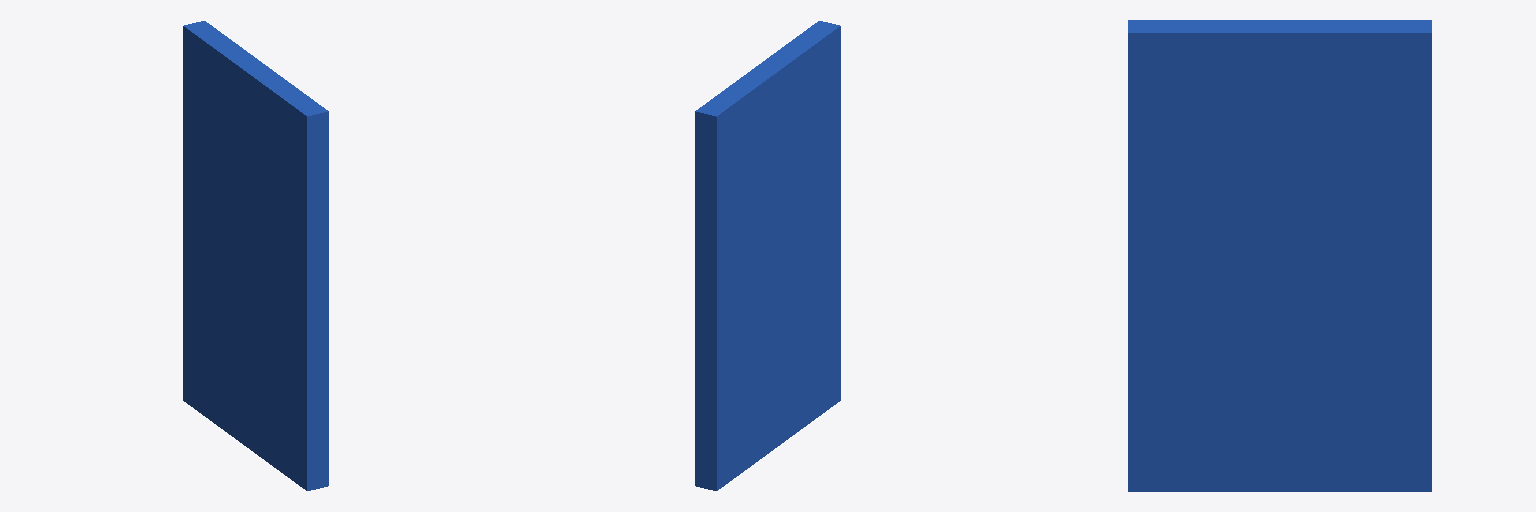
The robot description file, URDF, robot "Domino_15":
<robot name="Domino_15" version="1.0">
  <link name="Domino_15_link">
    <collision name="Cube.014_collision">
      <origin rpy="0.00000 0.00000 1.57080" xyz="-0.65077 0.97480 0.24898"/>
      <geometry>
        <box size="0.30000 0.03000 0.50000"/>
      </geometry>
    </collision>
    <inertial>
      <inertia ixx="0.00283" ixy="-0.00000" ixz="0.00000" iyy="0.00209" iyz="0.00000" izz="0.00076"/>
      <origin rpy="0.00000 0.00000 0.00000" xyz="-0.65077 0.97480 0.24898"/>
      <mass value="0.10000"/>
    </inertial>
    <visual name="Cube.014">
      <material name="turnarrow"/>
      <origin rpy="0.00000 0.00000 1.57080" xyz="-0.65077 0.97480 0.24898"/>
      <geometry>
        <box size="0.30000 0.03000 0.50000"/>
      </geometry>
    </visual>
  </link>
  <material name="turnarrow">
    <color rgba="0.23137 0.44706 0.80000 1.00000"/>
  </material>
</robot>

--- What the picture shows (computed from the rendered views, not written in the file) ---
The picture shows the robot from 3 angles, left to right: view 1: azimuth 30°, elevation 25°; view 2: azimuth 150°, elevation 25°; view 3: azimuth 270°, elevation 25°; orthographic projection.
Model Domino_15 with 1 links and 0 joints (none), rooted at Domino_15_link, posed every joint at zero.
Visible links, largest first — view 1: Domino_15_link; view 2: Domino_15_link; view 3: Domino_15_link.
Link boxes in pixels (x1,y1,x2,y2): Domino_15_link: (183, 21, 328, 490); Domino_15_link: (695, 21, 840, 490); Domino_15_link: (1128, 20, 1431, 491).
Size in the robot's own frame: 0.03 by 0.3 by 0.5 metres.
Geometry: primitives only (box / cylinder / sphere), no mesh files.